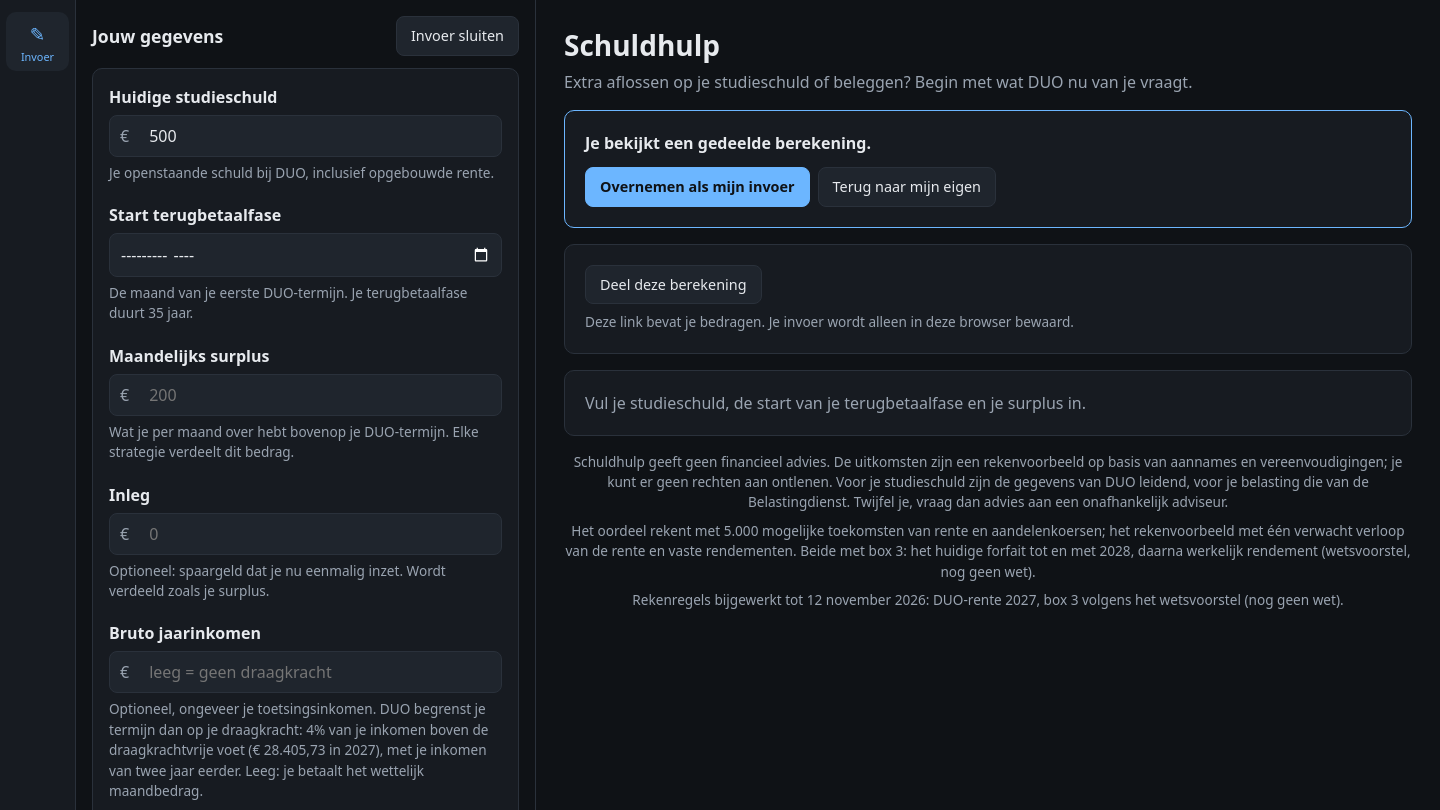
Scenario: share link (#31) › with saved inputs: gedeelde berekening › "Overnemen als mijn invoer" saves the shared view, with edits, and clears the hash
Type "75" into the field labelled "Maandelijks surplus" at (320, 395), box x1=139 y1=375 x2=501 y2=415
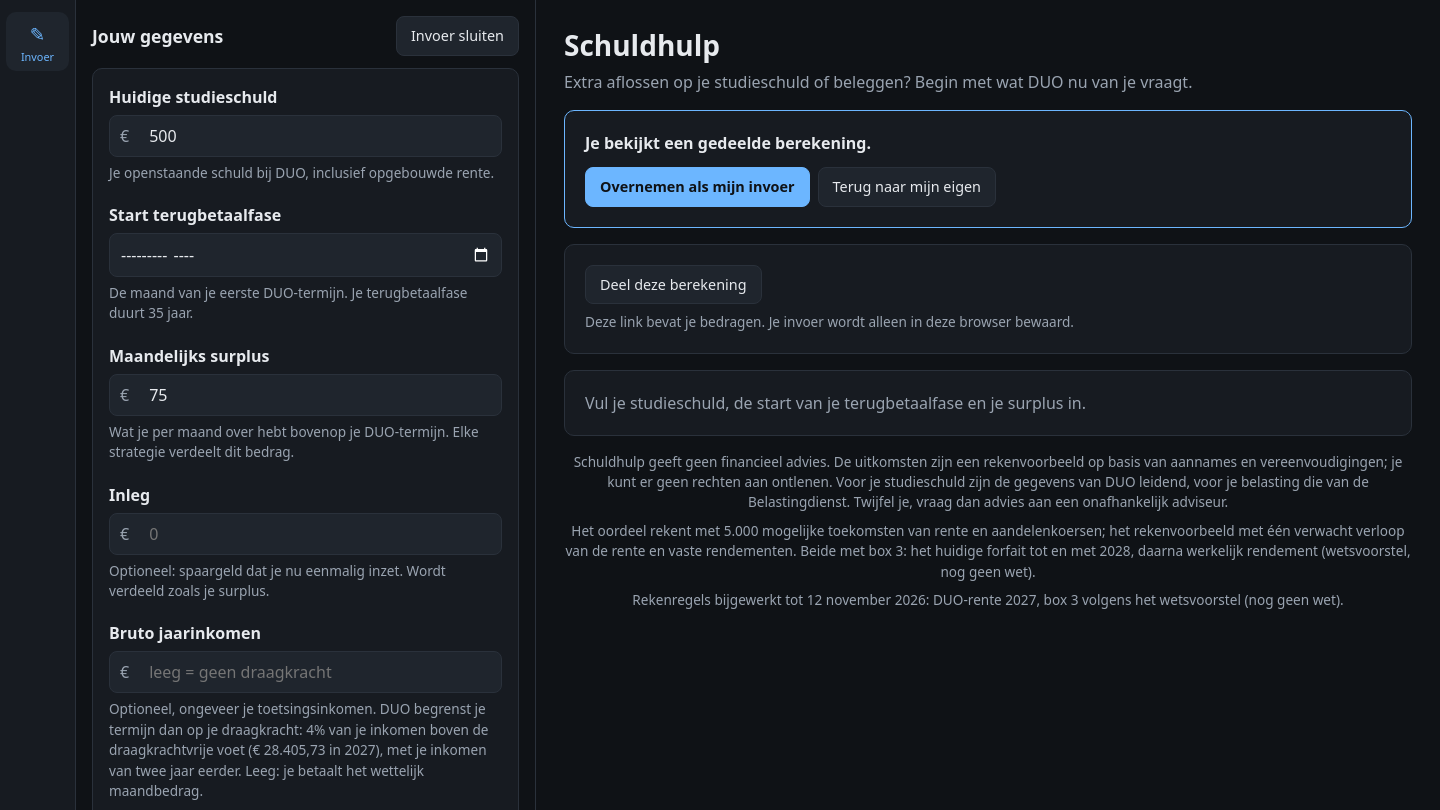
Click the button "Overnemen als mijn invoer" at (697, 187), box x1=585 y1=167 x2=810 y2=207
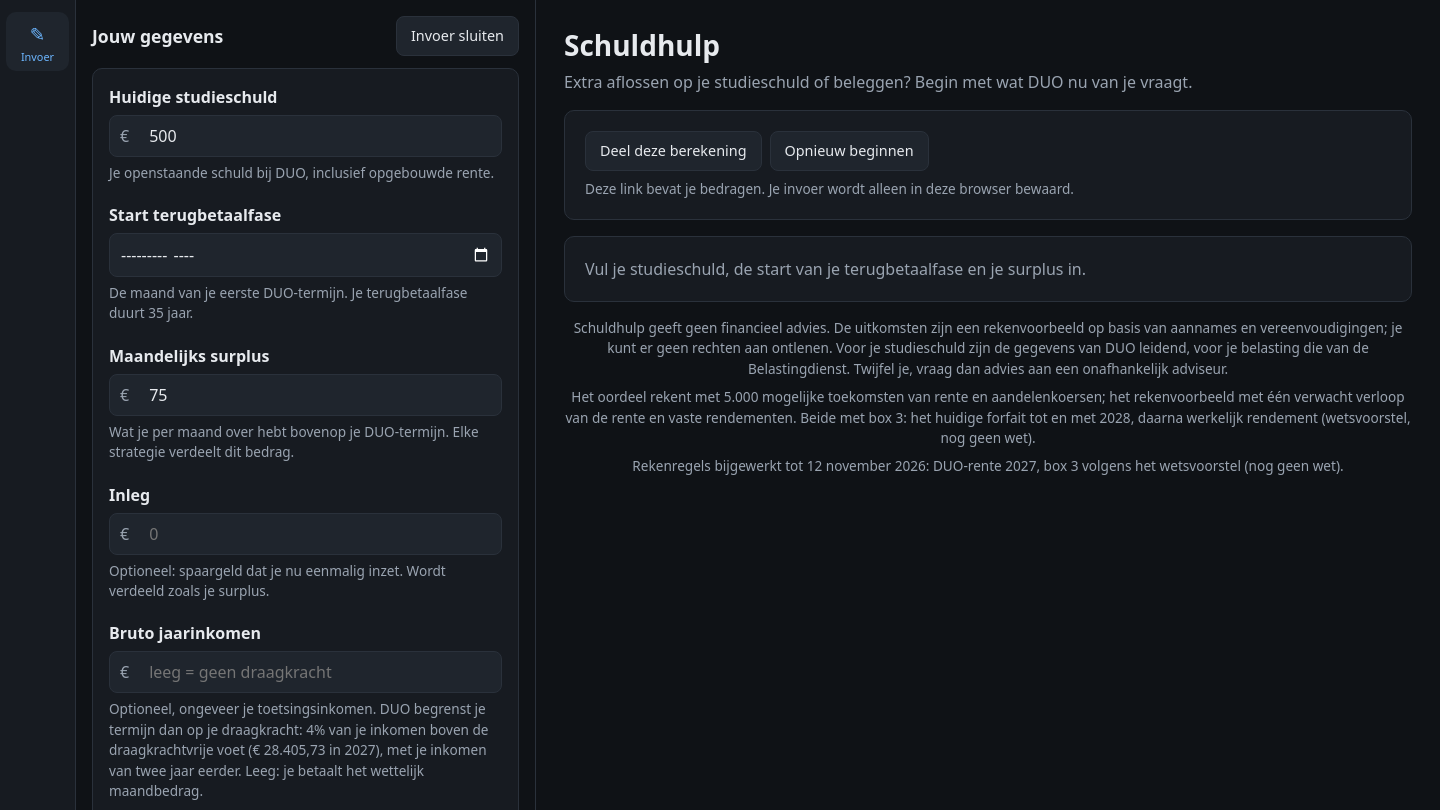
Expected: the text "gedeelde berekening" is gone
